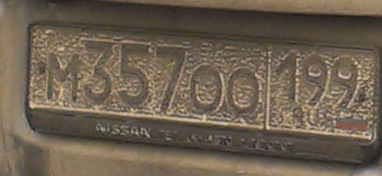character: (114, 36, 152, 110), (151, 42, 187, 115), (80, 38, 115, 106), (44, 50, 83, 109), (225, 62, 263, 122), (329, 51, 362, 113), (188, 61, 225, 116), (303, 47, 330, 110), (274, 48, 301, 107)
